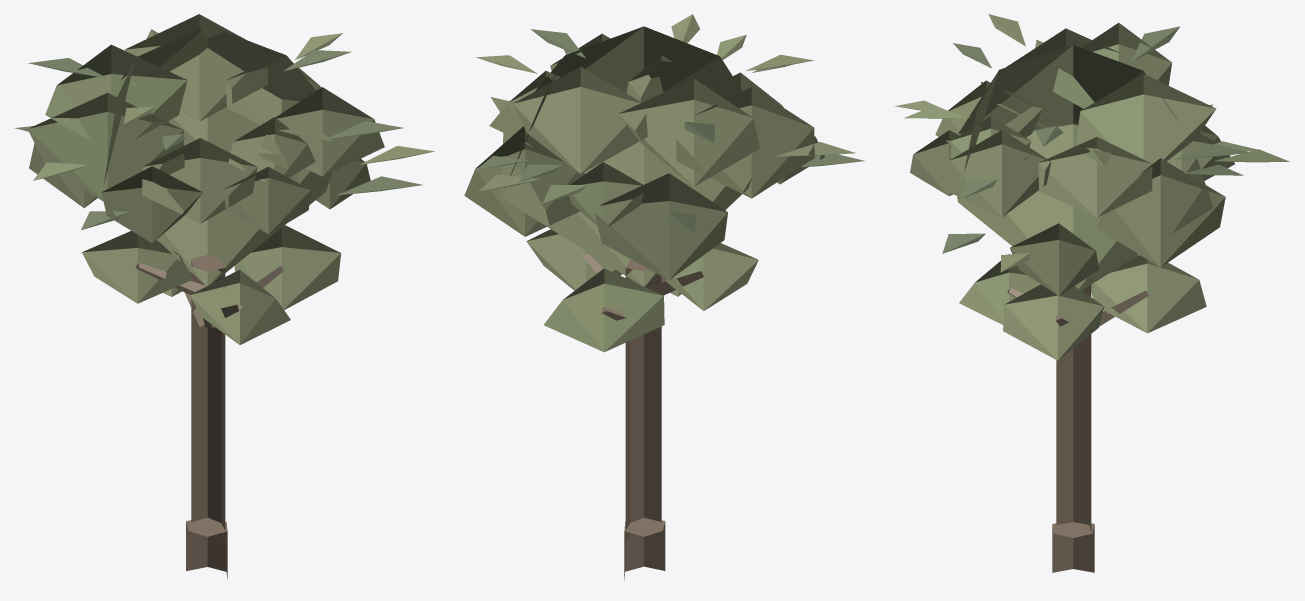
Rendered from shu.longnao@subadult__winter.glb.
The picture shows the model from 3 angles, left to right: view 1: azimuth 30°, elevation 25°; view 2: azimuth 150°, elevation 25°; view 3: azimuth 270°, elevation 25°; orthographic projection. The views are drawn at different scales.
Parts seen in each view (by area): view 1: shu.longnao@subadult__winter; view 2: shu.longnao@subadult__winter; view 3: shu.longnao@subadult__winter.
Boxes of the visible parts, left/top/right/bottom form: shu.longnao@subadult__winter: left=14, top=14, right=434, bottom=579; shu.longnao@subadult__winter: left=464, top=14, right=864, bottom=580; shu.longnao@subadult__winter: left=895, top=14, right=1289, bottom=572.
Bounding box in the file's own units: 12.02 × 16.08 × 10.99.
